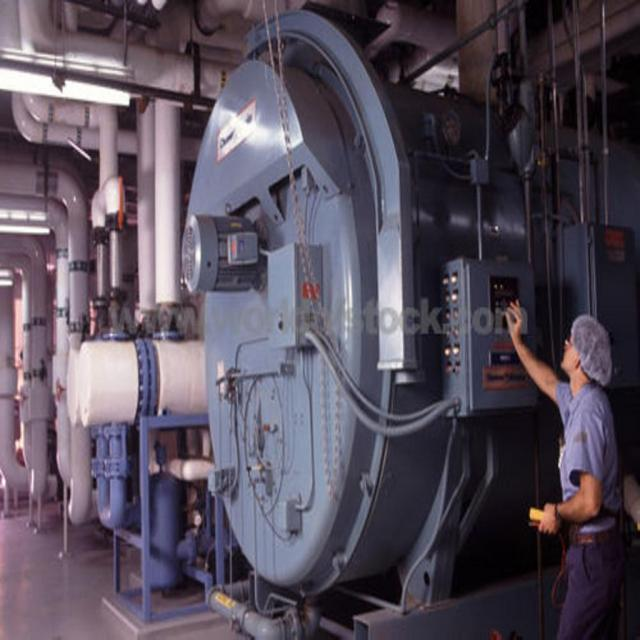nomask: (560, 331, 576, 366)
